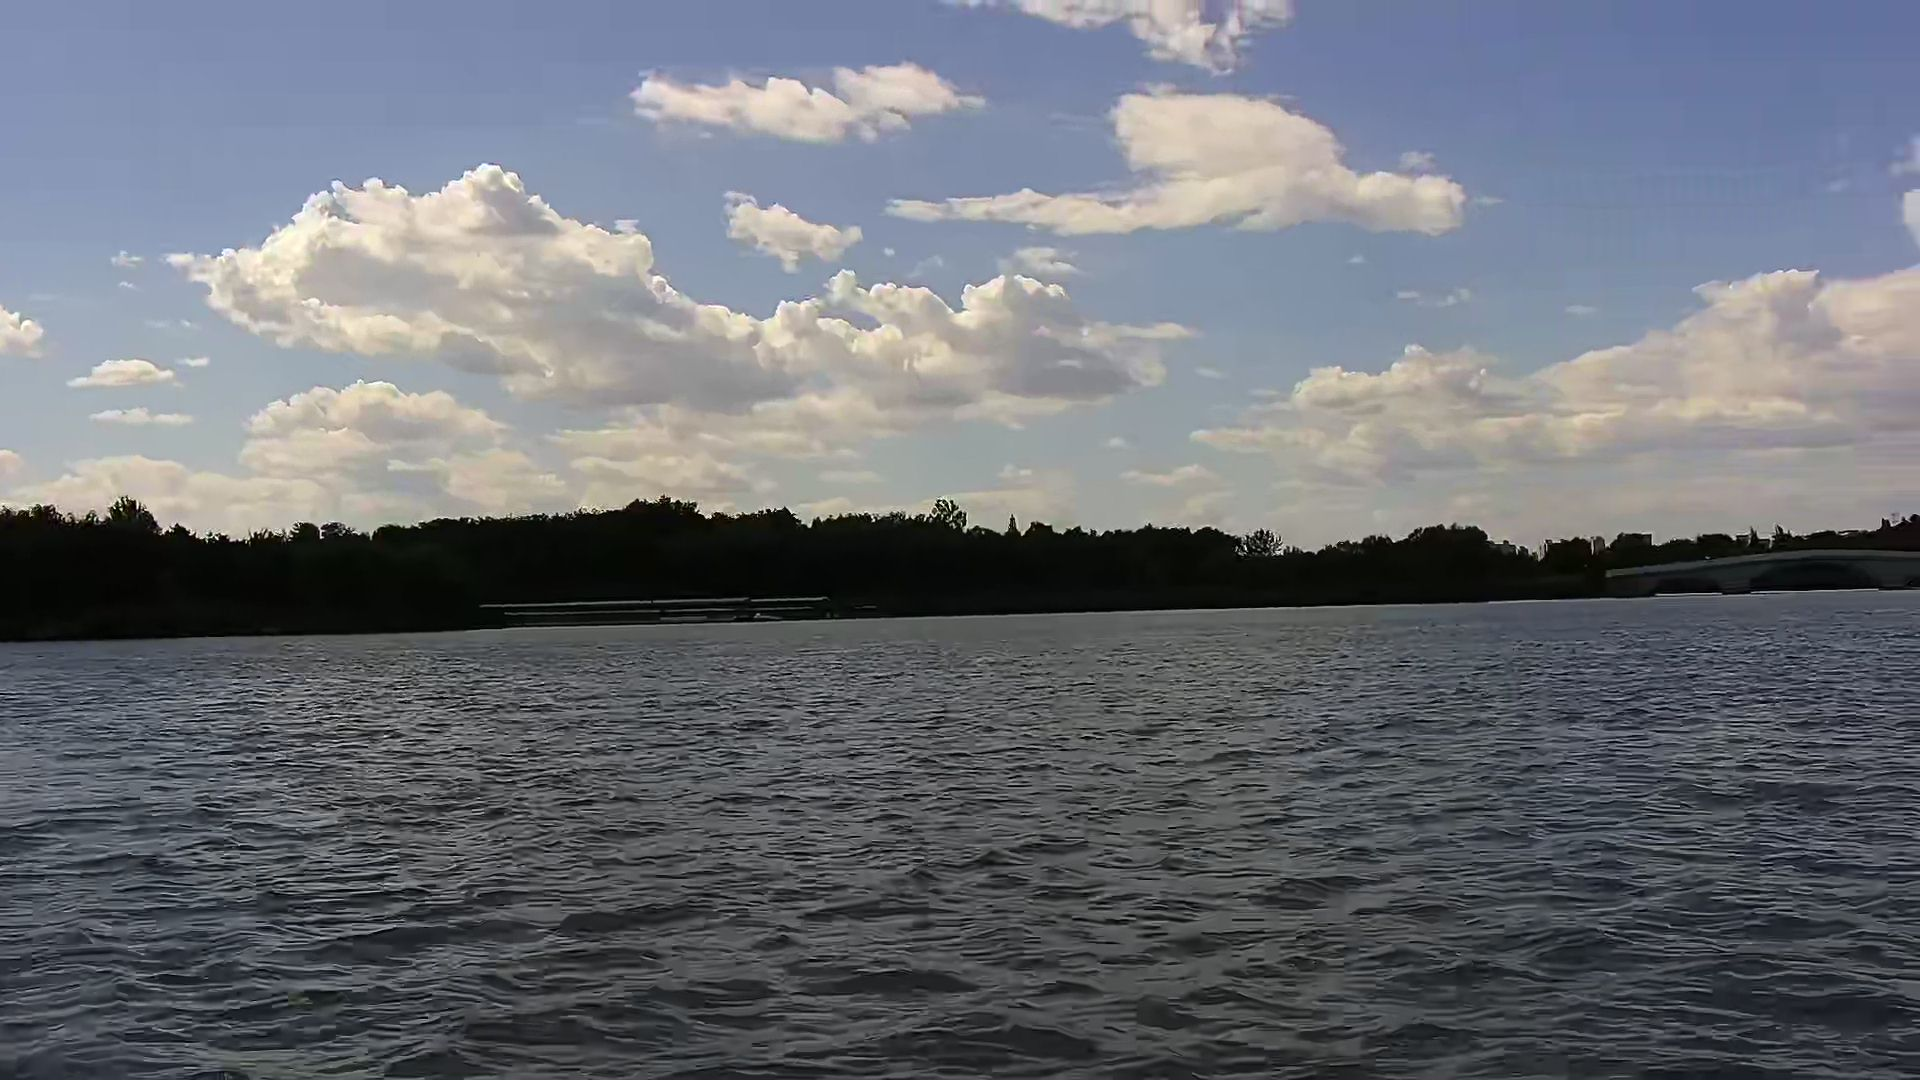bridge: (1607, 551, 1916, 593), (481, 599, 825, 620)
